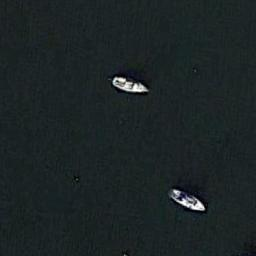boat: (166, 186, 206, 211), (109, 76, 150, 93)
